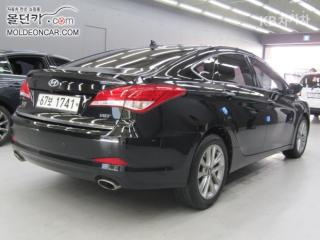1: (70, 99, 76, 110), (55, 96, 60, 108)
4: (64, 98, 71, 108)
6: (40, 95, 44, 105)
7: (60, 97, 65, 108), (44, 95, 48, 105)
보: (48, 96, 53, 106)
